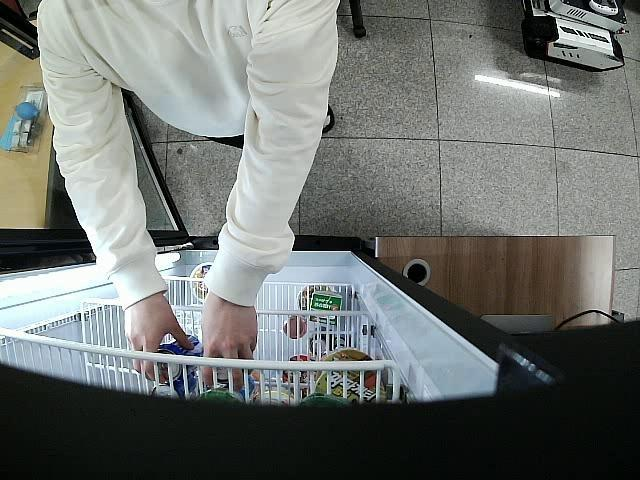13_pocariSweat: (158, 333, 202, 382)
